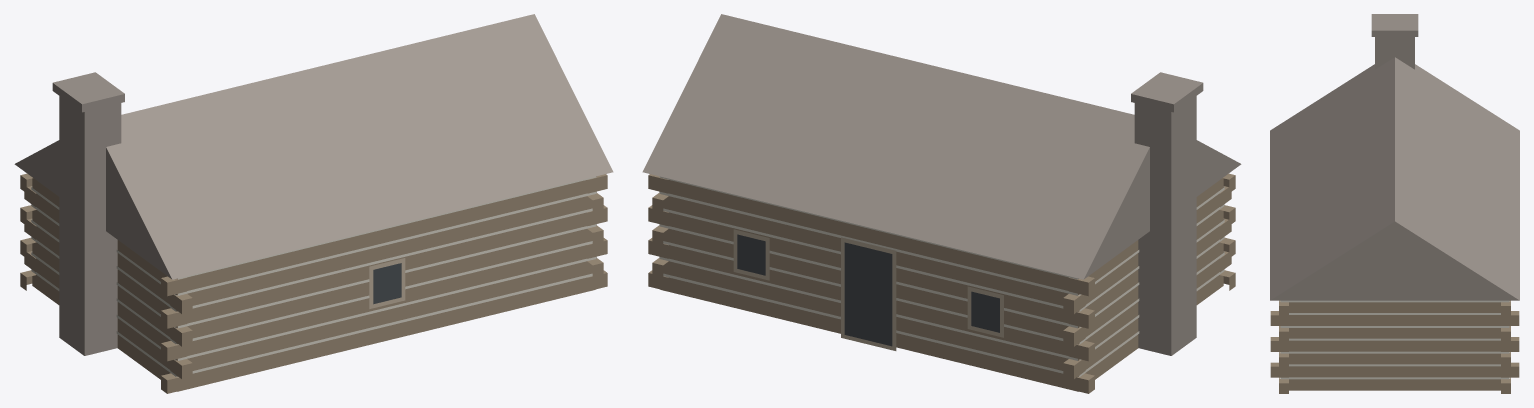
Rendered from madore_beaubien_house__log_1831.glb.
3 renders of one model, left to right at view 1: azimuth 30°, elevation 25°; view 2: azimuth 150°, elevation 25°; view 3: azimuth 270°, elevation 25°, orthographic. The views are drawn at different scales.
Visible parts, largest first — view 1: madore_beaubien_house__log_1831; view 2: madore_beaubien_house__log_1831; view 3: madore_beaubien_house__log_1831.
Part boxes in pixels (x1=…): madore_beaubien_house__log_1831: x1=14, y1=14, x2=613, y2=393; madore_beaubien_house__log_1831: x1=642, y1=14, x2=1241, y2=393; madore_beaubien_house__log_1831: x1=1270, y1=14, x2=1519, y2=393.
Size of the model in its own units: 10.21 by 5.38 by 5.99.
